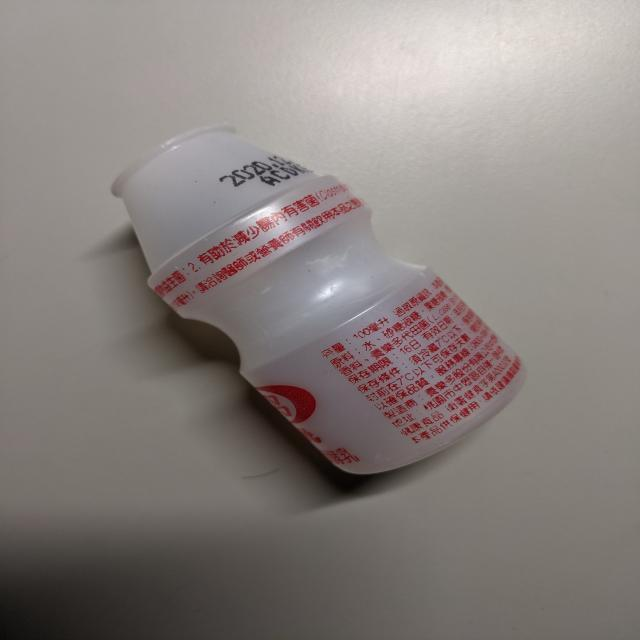Plastic: (113, 117, 522, 486)
